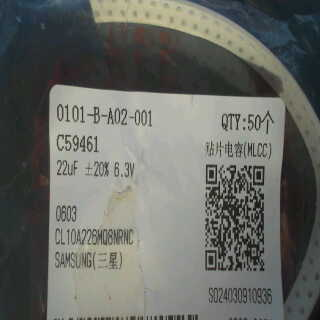22uF: (52, 156, 82, 178)
